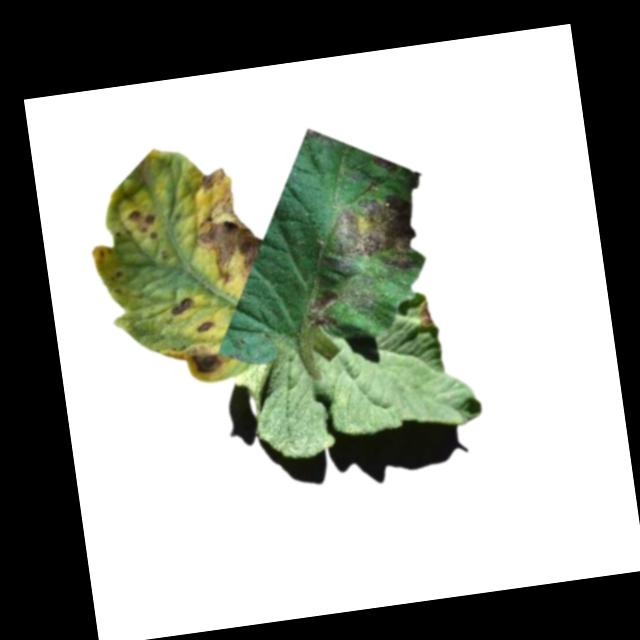Early_blight: (186, 162, 268, 288), (318, 193, 425, 283), (303, 289, 345, 330), (186, 348, 229, 381), (124, 208, 159, 246), (166, 297, 193, 318), (416, 301, 435, 330), (196, 321, 216, 334)
